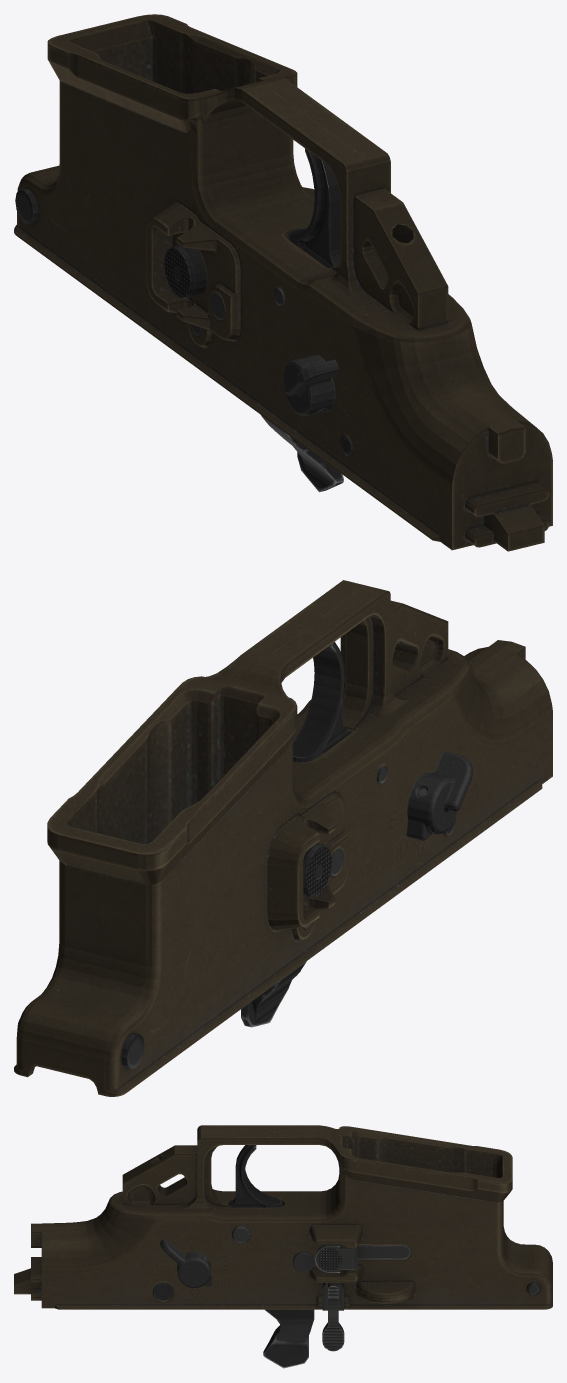
3 views of the same model, one above another, from view 1: azimuth 30°, elevation 25°; view 2: azimuth 150°, elevation 25°; view 3: azimuth 270°, elevation 25° (orthographic). The views are drawn at different scales.
Visible parts, largest first — view 1: TW_618428466ef05c2ce828f218_PZ_Import; view 2: TW_618428466ef05c2ce828f218_PZ_Import; view 3: TW_618428466ef05c2ce828f218_PZ_Import.
Boxes of the visible parts, x1,y1,x2,y2 form: TW_618428466ef05c2ce828f218_PZ_Import: (14, 14, 552, 551); TW_618428466ef05c2ce828f218_PZ_Import: (14, 580, 552, 1096); TW_618428466ef05c2ce828f218_PZ_Import: (14, 1125, 552, 1368).
Bounding box in the file's own units: 0.0287 × 0.1329 × 0.062.
Materials: 1 (1 with a texture image).
